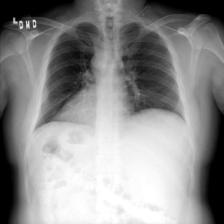normal: (33, 15, 190, 132)
